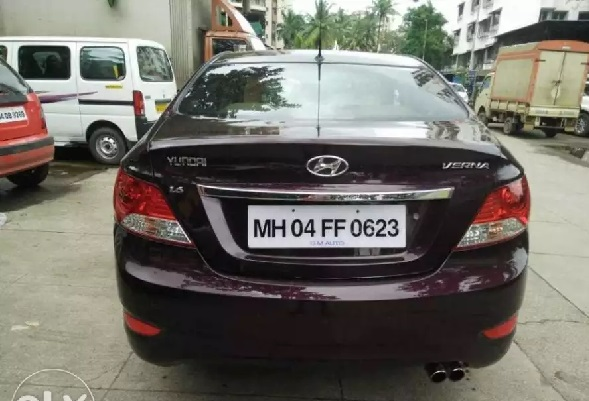licenseplate: (245, 200, 410, 251)
